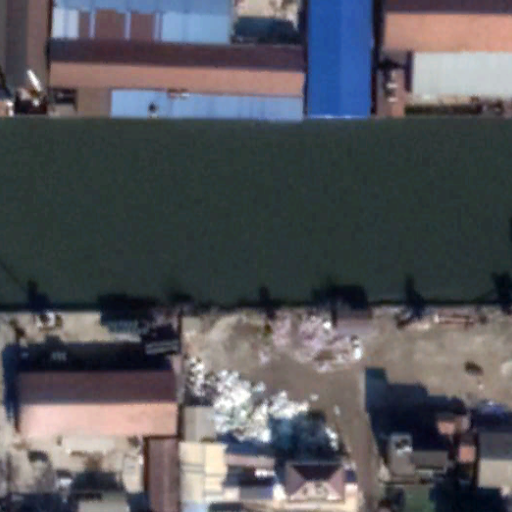msw: (185, 357, 344, 454)
